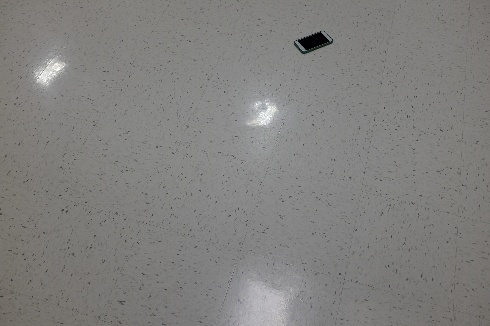phone: (289, 25, 338, 57)
